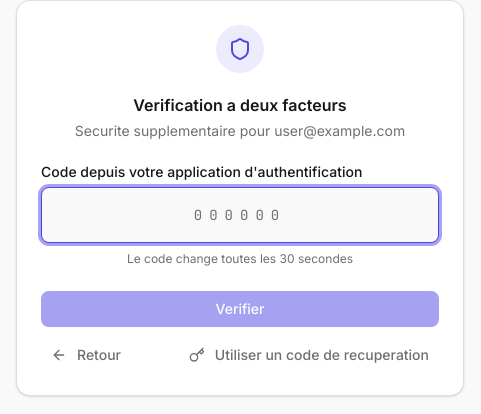
Test: MFAVerify › Mode code de recuperation › bascule vers le mode code de recuperation
Step 1. Click the button "Utiliser un code de recuperation" → point(309, 355), box x1=179 y1=339 x2=439 y2=371
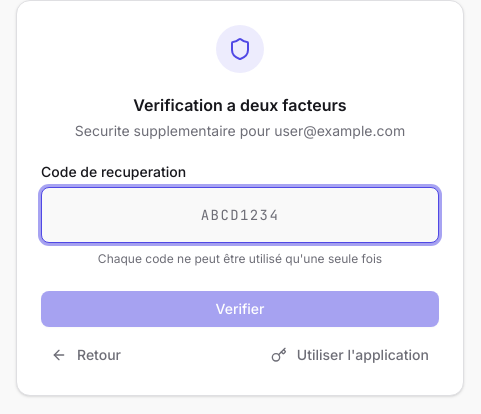
Result: the field with placeholder "ABCD1234" is shown at x1=41 y1=187 x2=439 y2=243
